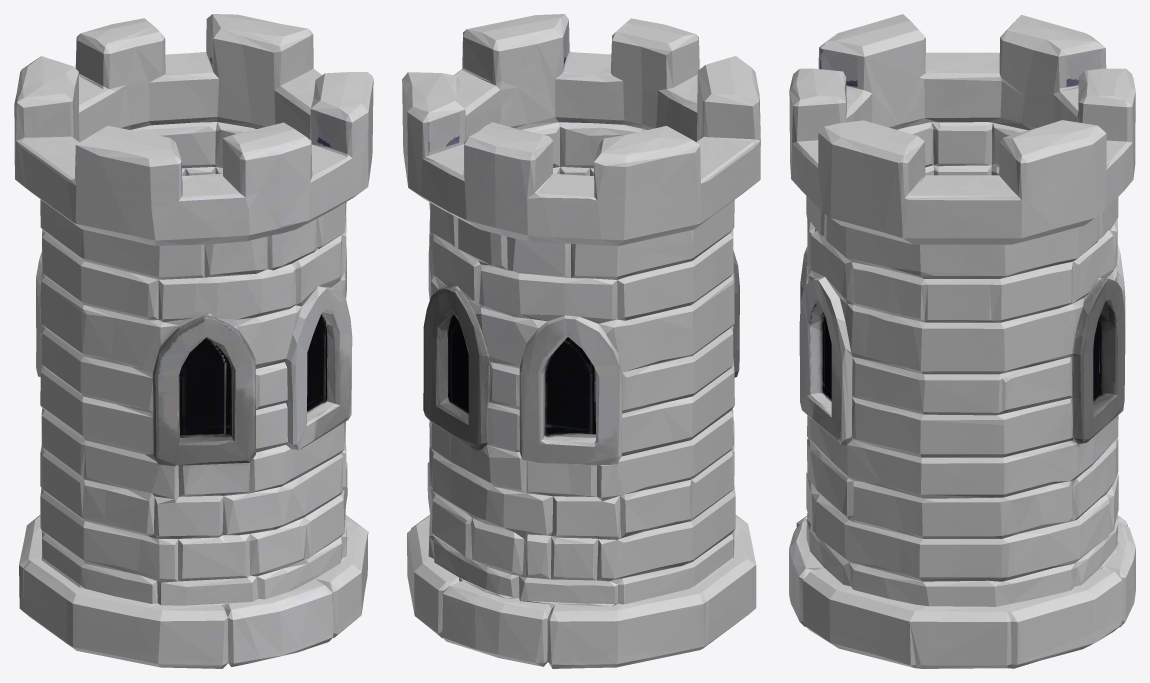
The model's file is stone_tower_3.glb.
The picture shows the model from 3 angles, left to right: view 1: azimuth 30°, elevation 25°; view 2: azimuth 150°, elevation 25°; view 3: azimuth 270°, elevation 25°; orthographic projection.
Size of the model in its own units: 1.2 by 1.97 by 1.2.
Materials: 1 (1 with a texture image).
